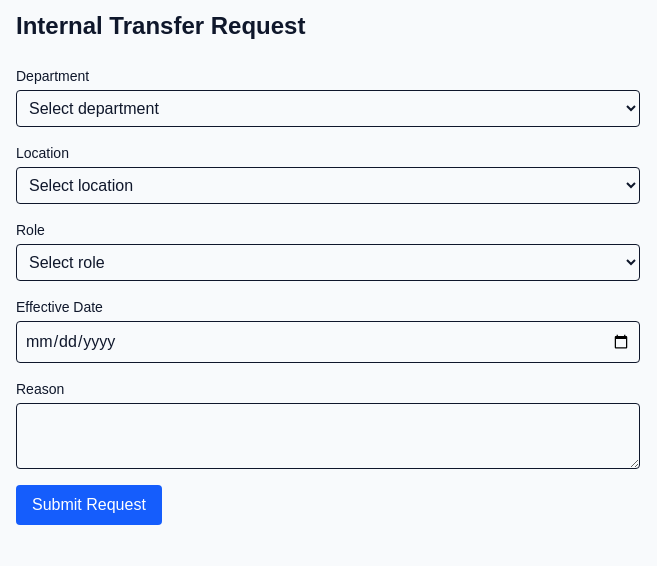
Test: employee-internal-transfer — T04: Approved Form Validation (UT05 / AC05 / AC03) › displays validation error when departmentId is missing
Select "New York" in the dropdown labelled "Location" at (328, 186), box top-left (16, 167), bottom-right (640, 204)
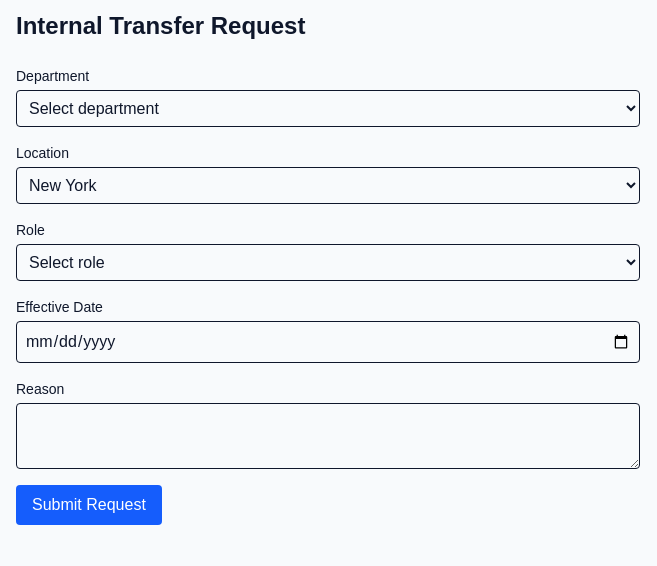
Select "Software Engineer" in the dropdown labelled "Role" at (328, 262), box top-left (16, 244), bottom-right (640, 281)
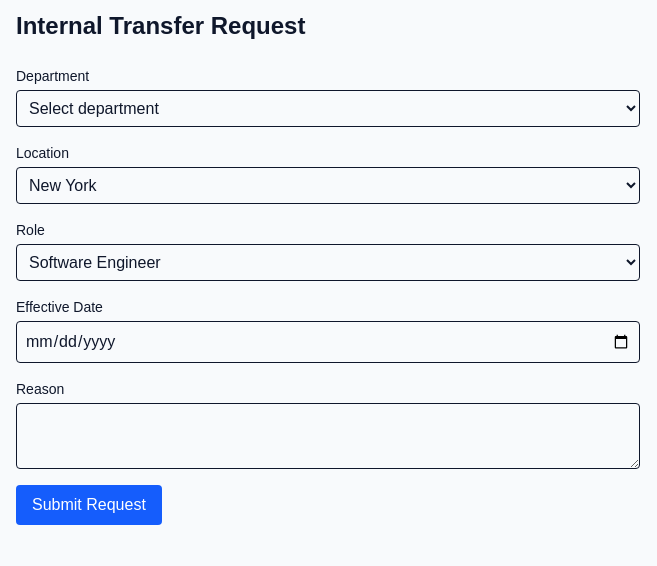
Type "2026-10-01" into the date field labelled "Effective Date" at (328, 342), box top-left (16, 321), bottom-right (640, 363)
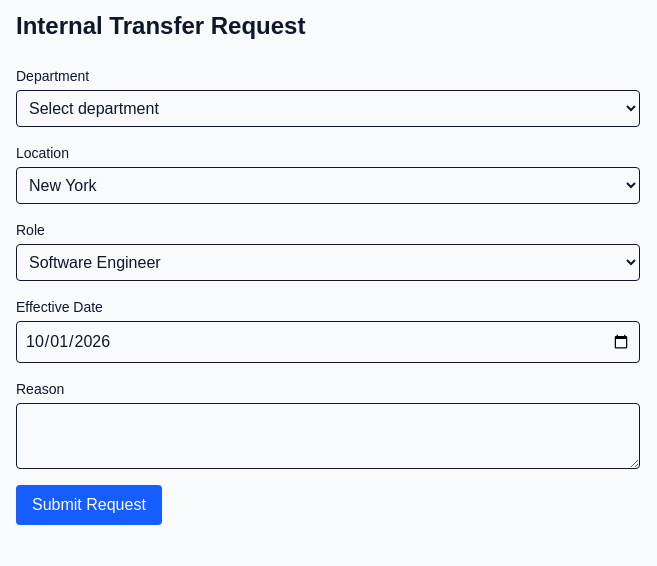
Click the button "Submit Request" at (89, 505), box top-left (16, 485), bottom-right (162, 525)
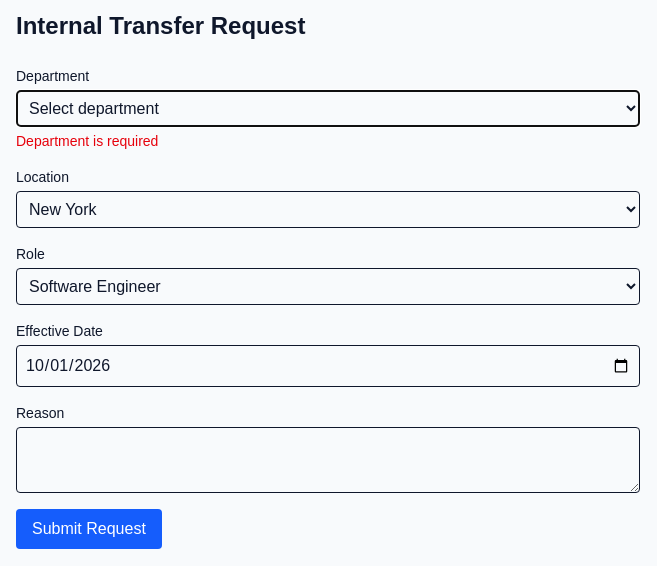
Check: the text "Department is required" is shown, box top-left (16, 133), bottom-right (158, 149)
